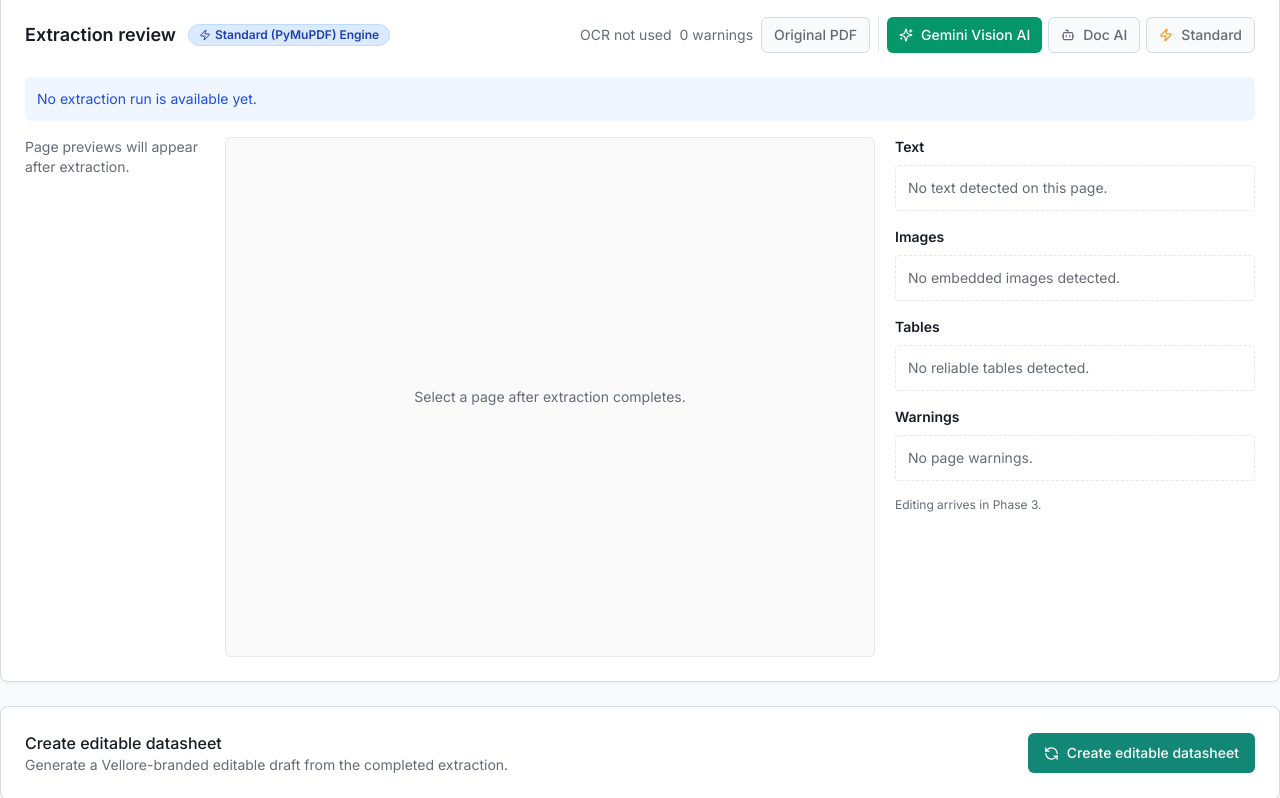
Scenario: DatasheetComposer › supports long product code preview without breaking the template header layout
(page scrolled)
Click the button "Create editable datasheet" at (1141, 753), box [1028,733,1255,773]
(page scrolled)
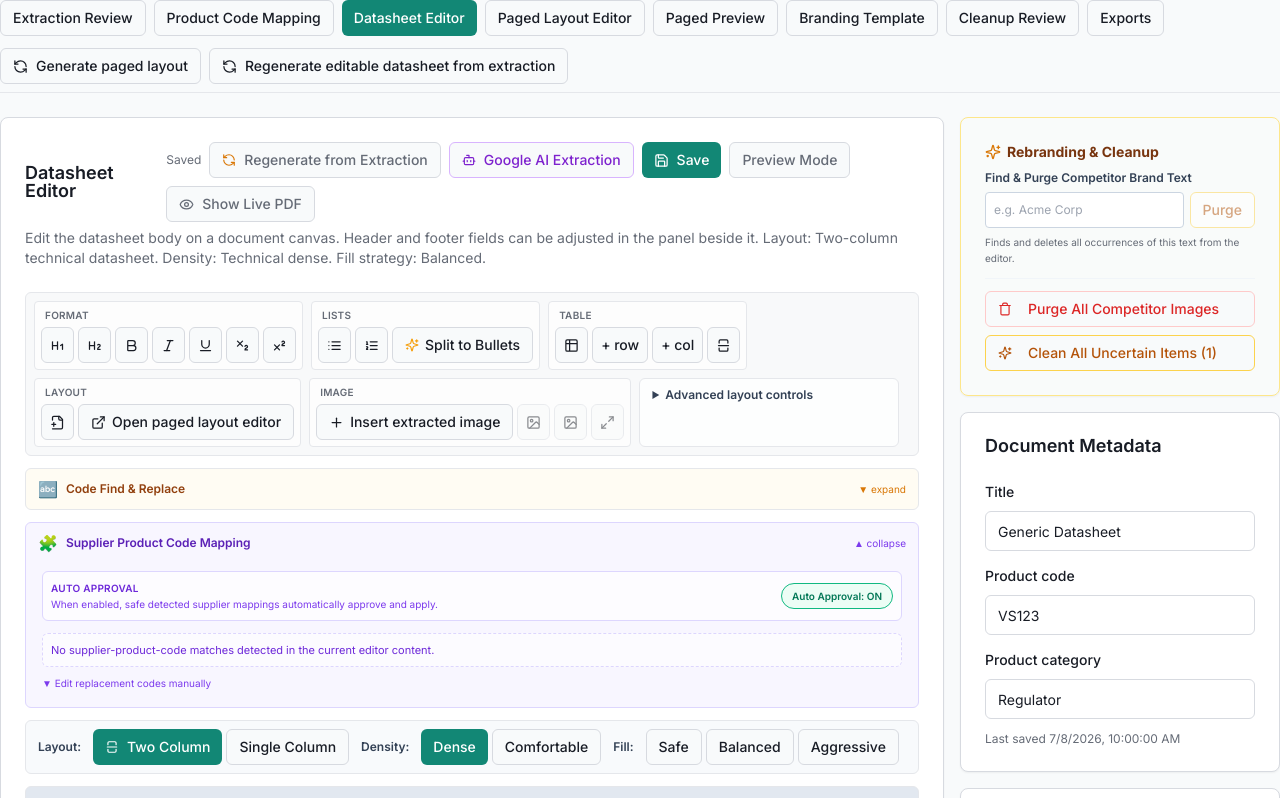
Expected: the button "Regenerate editable datasheet from extraction" is shown
Click the button "Regenerate editable datasheet from extraction" at (389, 66), box [209,48,568,84]
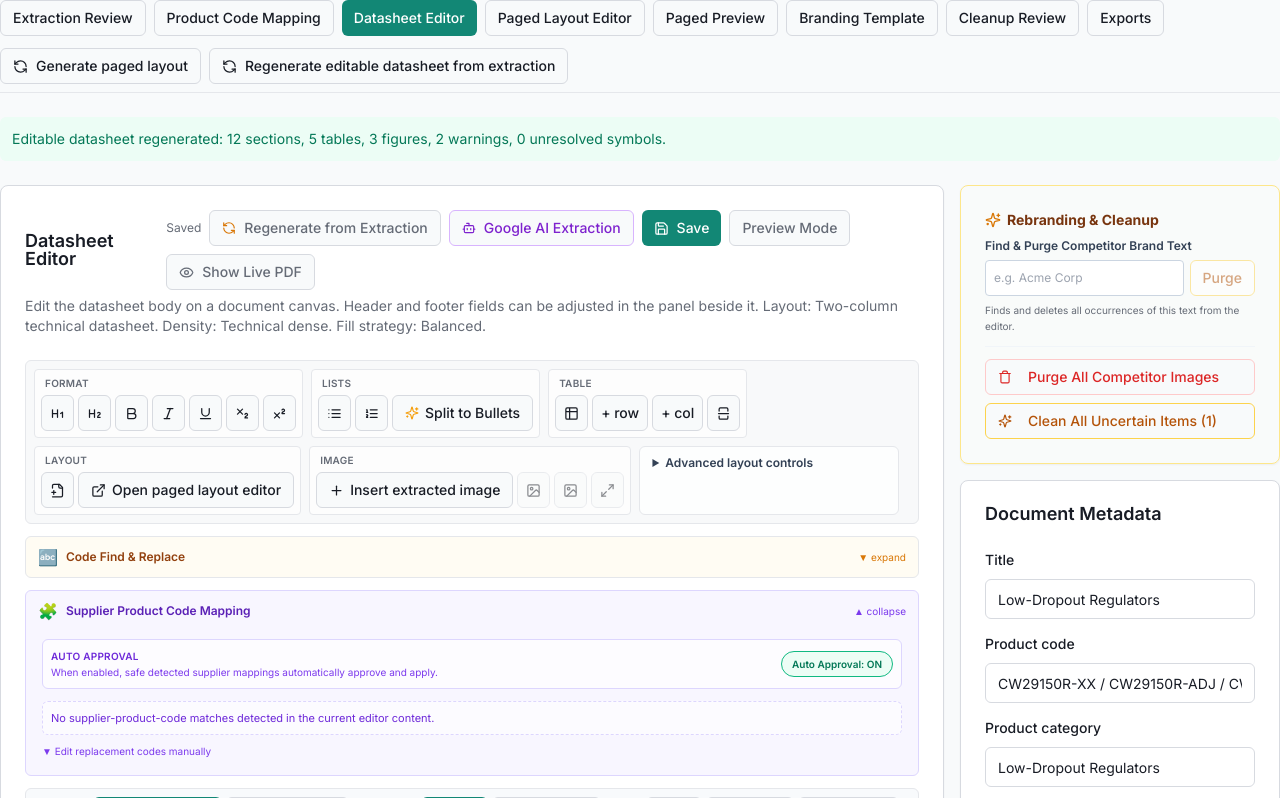
Click the button "Branding Template" at (862, 18), box [786,0,938,36]
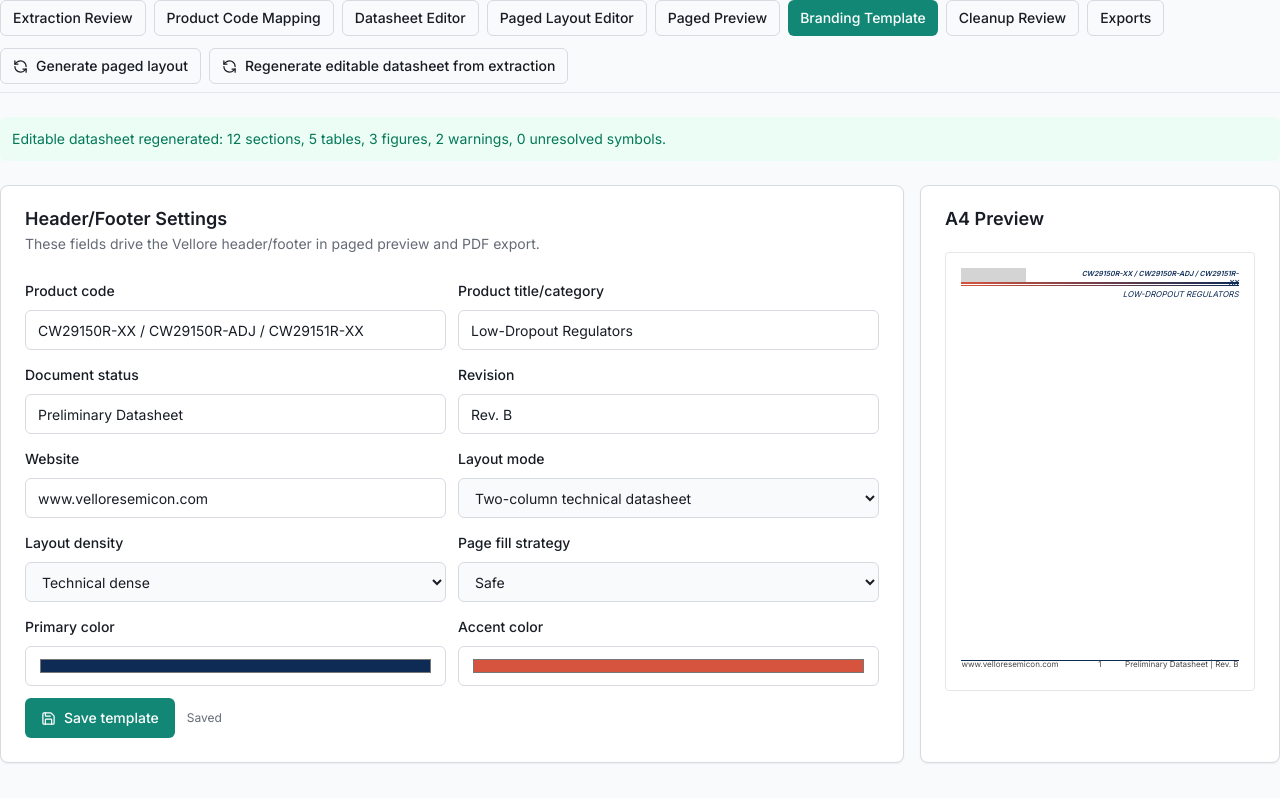
Expected: the text with test id "template-preview-product-code" reads "CW29150R-XX / CW29150R-ADJ / CW29151R-XX", [1082,269,1239,287]
Expected: the text with test id "template-preview-product-title" reads "Low-Dropout Regulators", [1123,289,1239,299]
